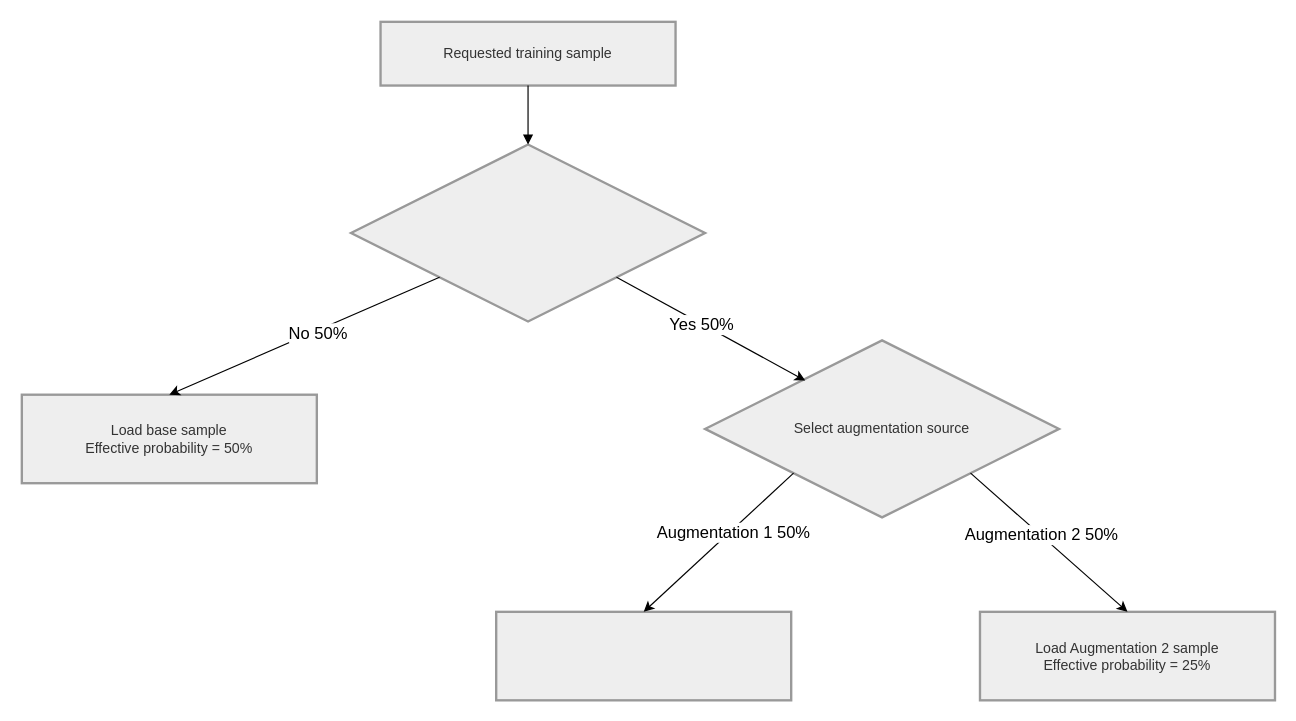
This 1296x721 diagram has some shape labels left out. The shapes that lost their labels are listed below. From the top down, each one's box as (x1, y1, x2, y2) in pixels, then its label:
(349, 143, 706, 322): Apply augmentation?
(494, 610, 792, 701): Load Augmentation 1 sample Effective probability = 25%
